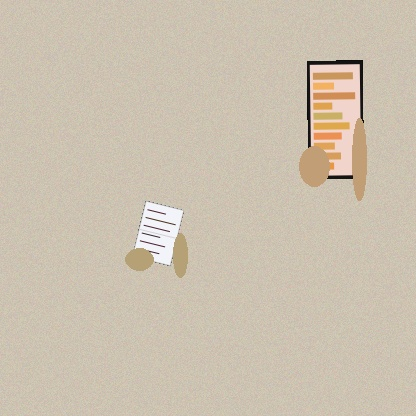cell_phone: (307, 60, 364, 179)
cheat_chit: (132, 201, 184, 266)
